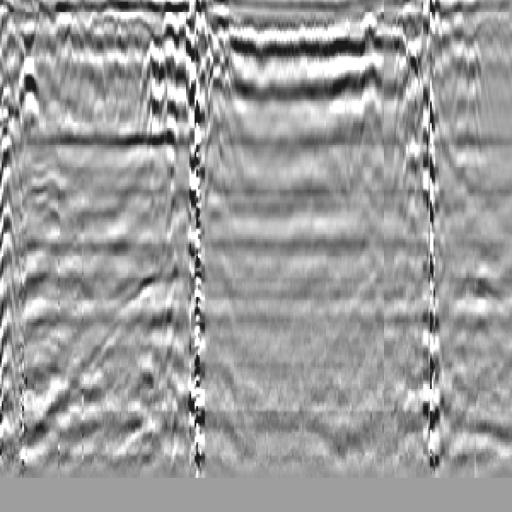non-metallic: (9, 50, 60, 145)
